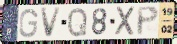8: (91, 7, 108, 37)
G: (18, 8, 39, 39)
P: (136, 5, 160, 37)
Q: (66, 6, 89, 38)
V: (40, 6, 63, 39)
X: (114, 5, 137, 37)
